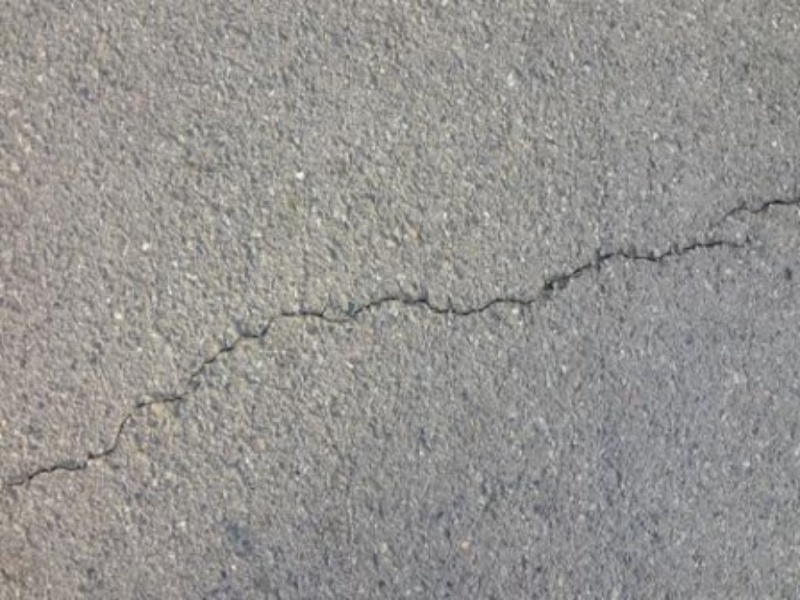crack: (20, 189, 787, 510)
